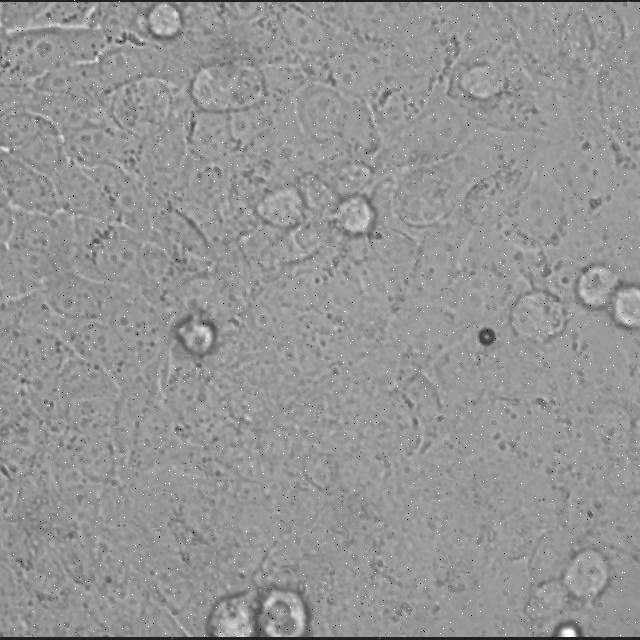microbeads: (478, 326, 497, 346)
